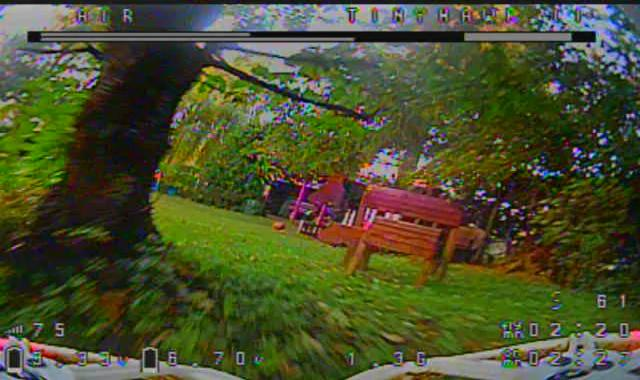horse: (320, 168, 464, 262), (331, 220, 445, 286)
